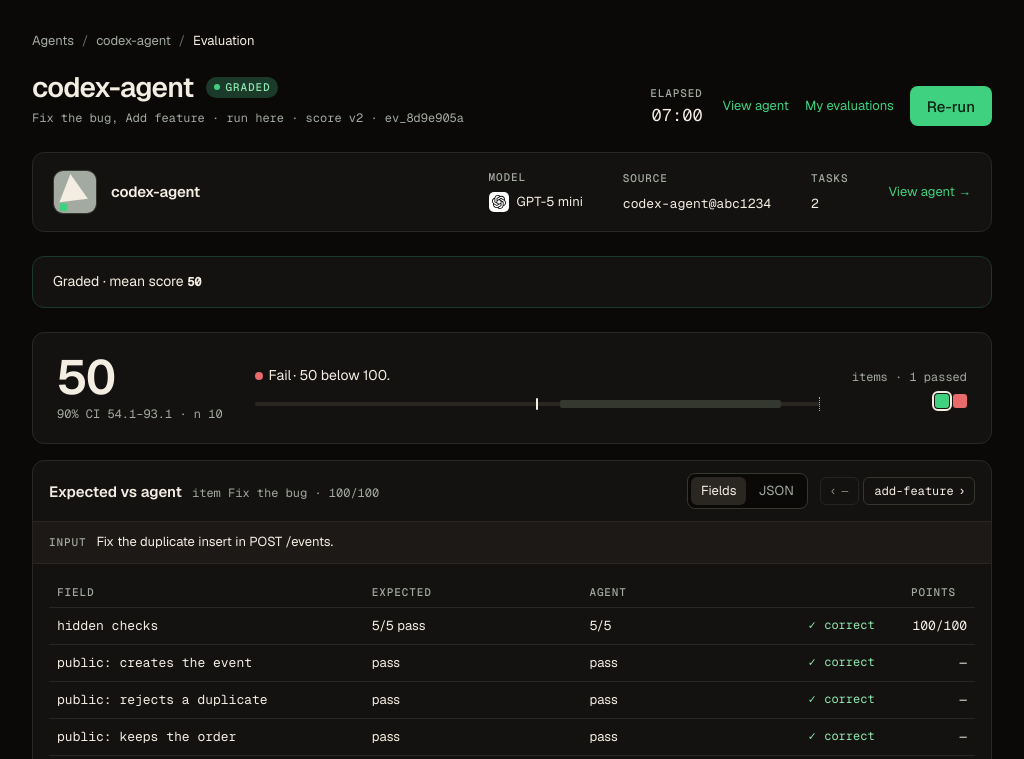
Test case: evaluation review layout › artifacts card of a hosted run: patch summary, counts and the link to the run artifacts page
What coordinates should you click on to do the following:
click the button "add-feature ›"
I would click on:
 (919, 492)
Its box is [864,478,975,506].
(page scrolled)
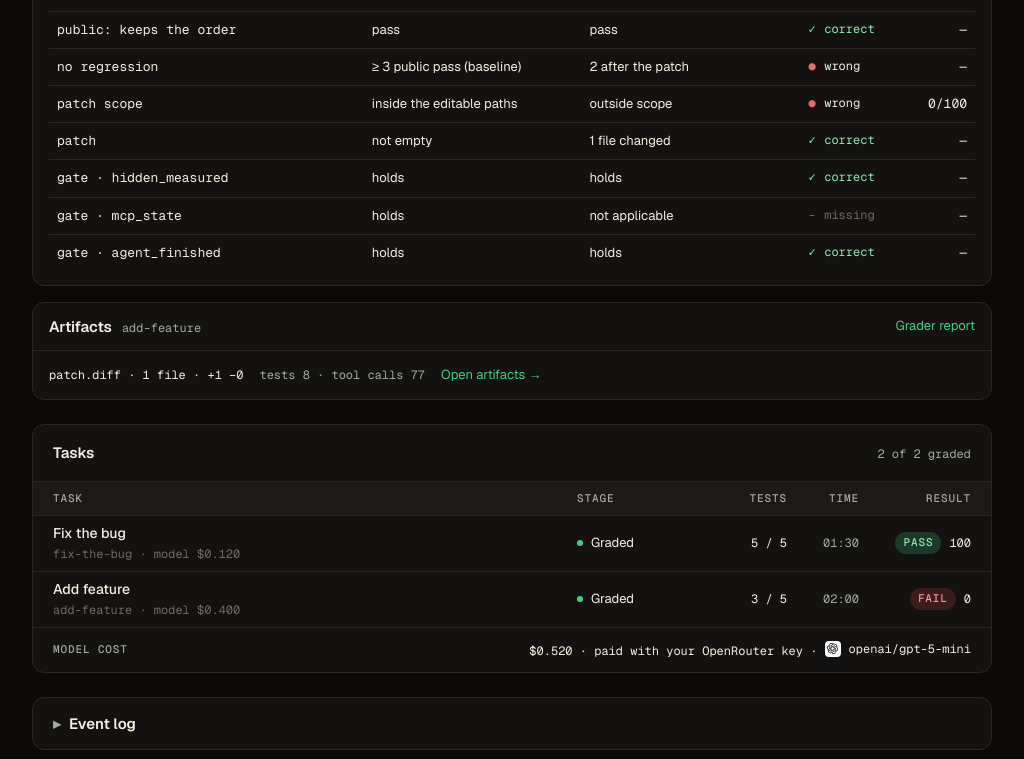
Now the text "patch.diff · 1 file · +1 −0" is shown, box [49,366,244,384]
